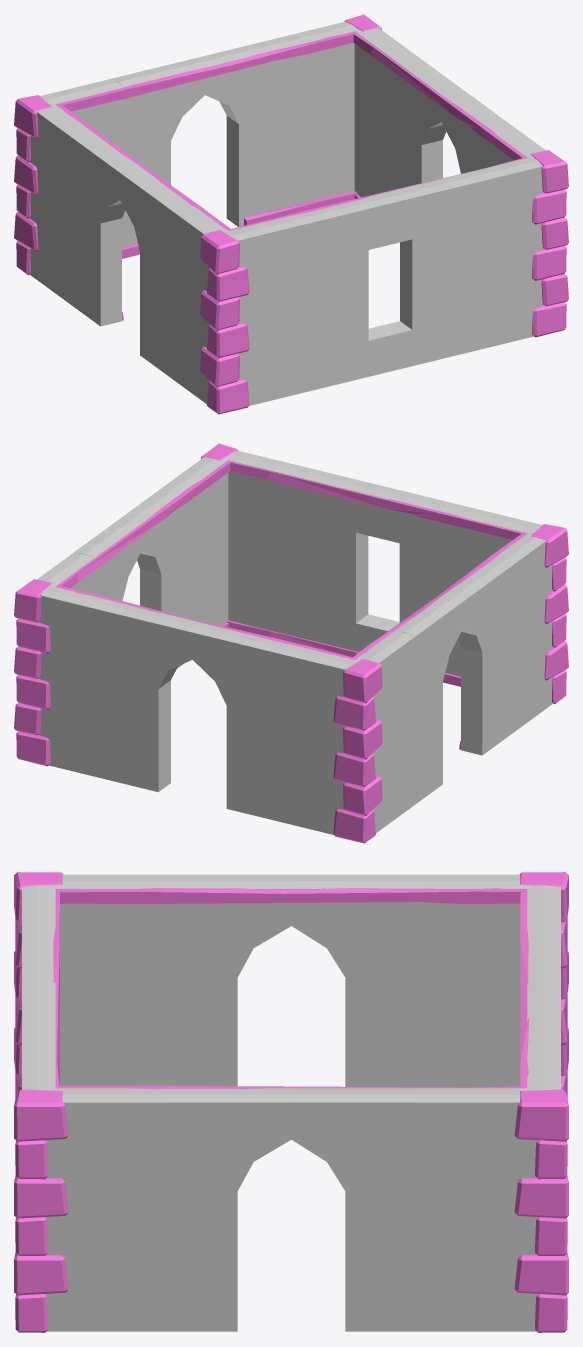
File: SM_Tower_Square_Entrance_T_6m_Fantasy_Base.fbx
The picture shows the model from 3 angles, top to bottom: view 1: azimuth 30°, elevation 25°; view 2: azimuth 150°, elevation 25°; view 3: azimuth 270°, elevation 25°; orthographic projection. The views are drawn at different scales.
Parts seen in each view (by area): view 1: SM_Tower_Square_Entrance_T_6m_Fantasy_Base; view 2: SM_Tower_Square_Entrance_T_6m_Fantasy_Base; view 3: SM_Tower_Square_Entrance_T_6m_Fantasy_Base.
Part boxes in pixels (bbox=[...]): SM_Tower_Square_Entrance_T_6m_Fantasy_Base: bbox=[14, 14, 568, 414]; SM_Tower_Square_Entrance_T_6m_Fantasy_Base: bbox=[14, 443, 568, 843]; SM_Tower_Square_Entrance_T_6m_Fantasy_Base: bbox=[14, 872, 568, 1332].
Bounding box in the file's own units: 6.61 × 3.05 × 6.59.
